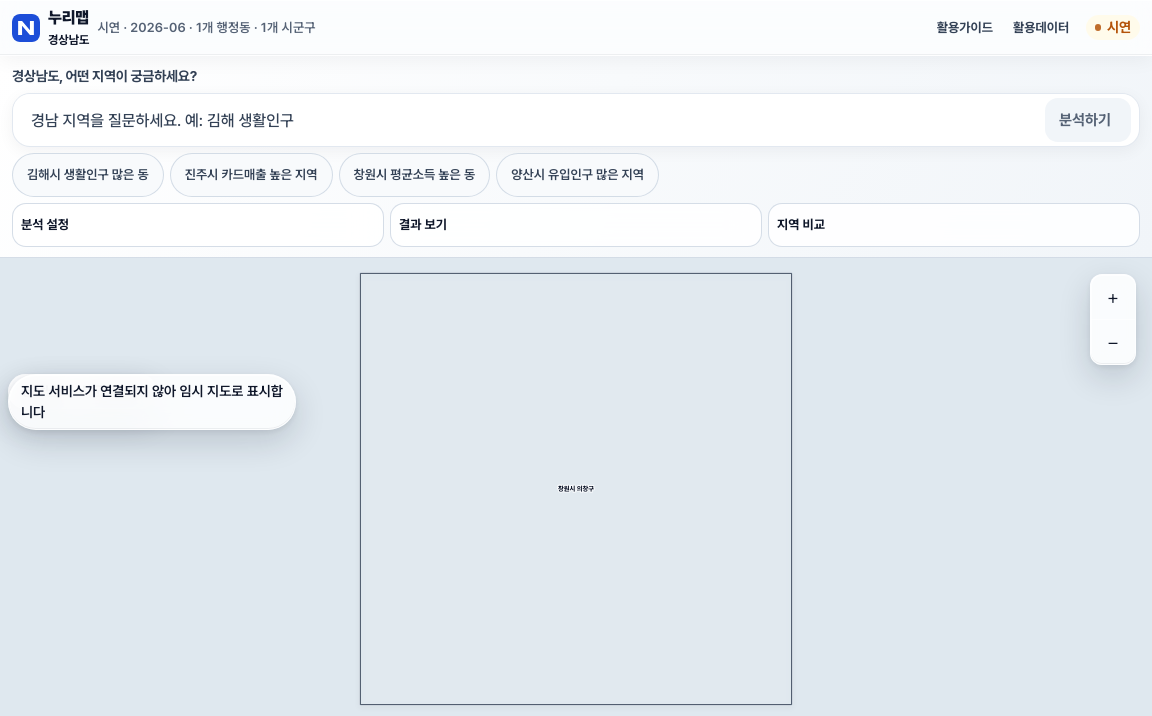
Test case: CopilotApp › 지역 비교는 작업 영역에서 바로 실행하고 대상을 결과에서 바꾼다
This screenshot has width=1152, height=716.
Expected: the text "경상남도 · 시군구 경계" is shown, [8, 374, 157, 409]
Click the button "지역 비교" at (801, 225), box [768, 203, 1140, 247]
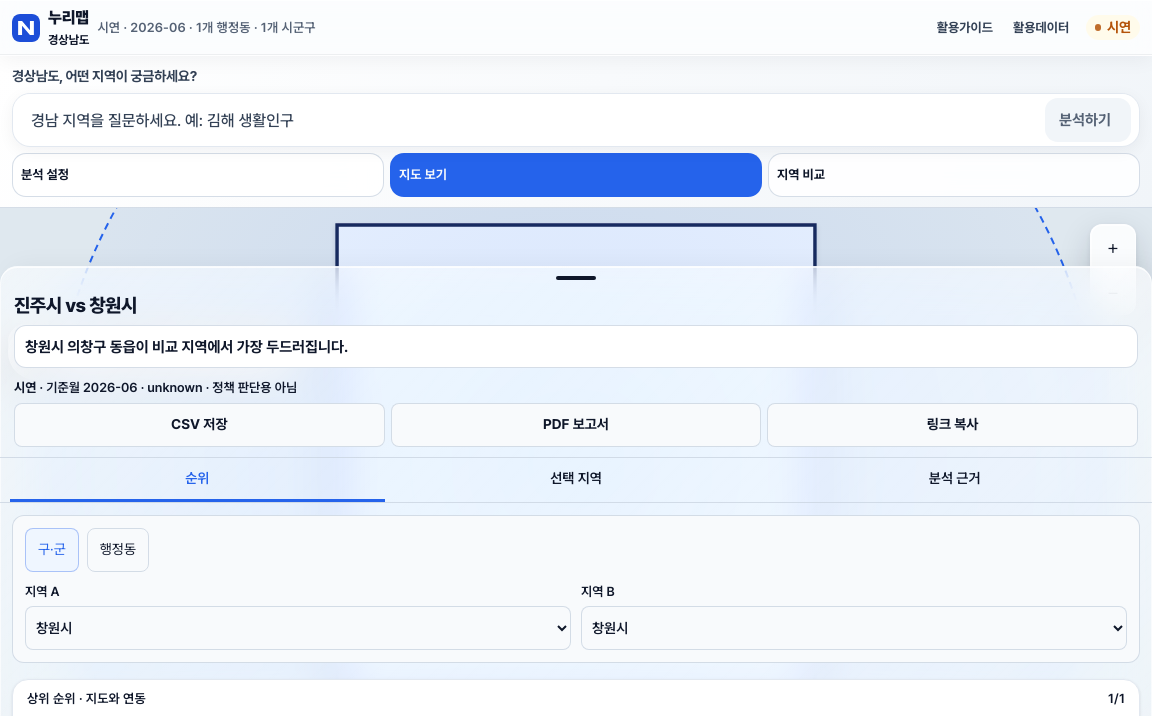
Expected: the dropdown named "비교할 지역 A" is shown, [25, 606, 571, 650]
Expected: the dropdown named "비교할 지역 B" is shown, [581, 606, 1127, 650]
Expected: the element named "내보내기" is shown, [14, 403, 1138, 447]
